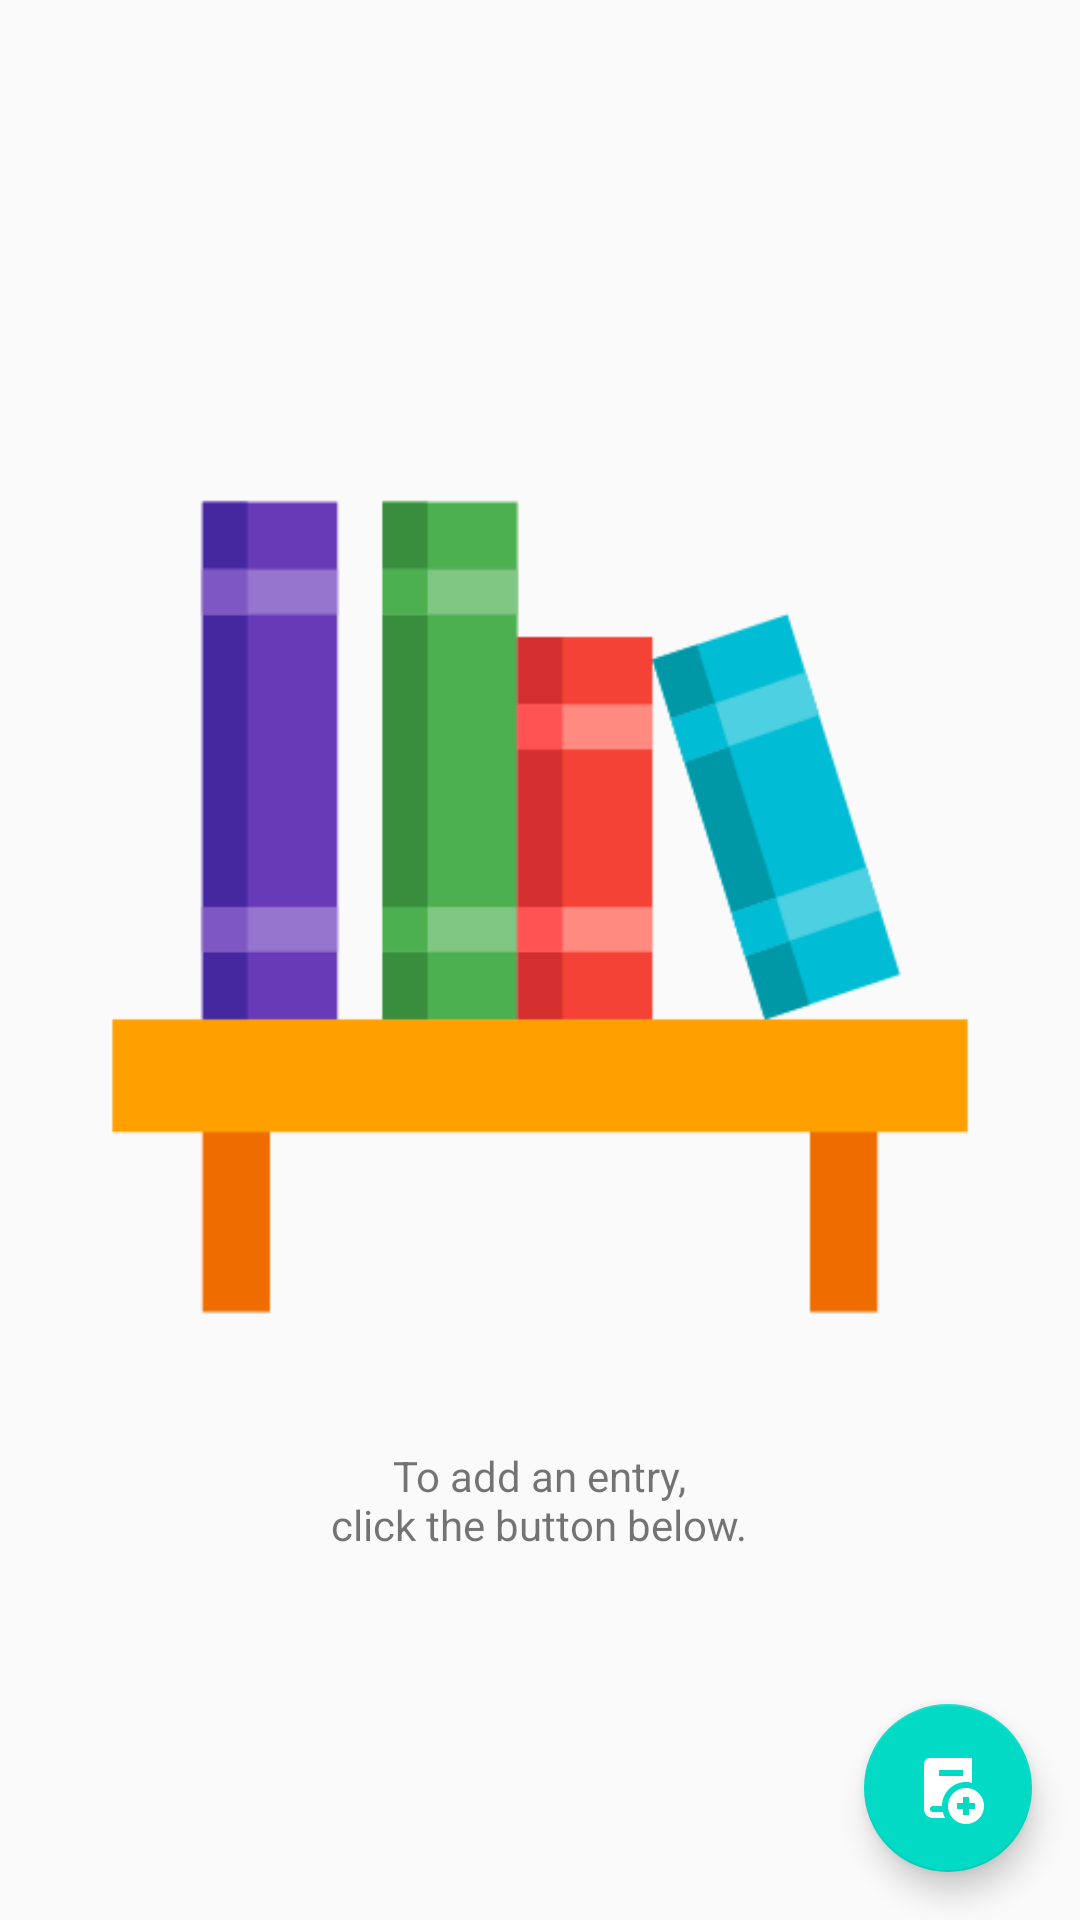

Screen size 1080px x 1920px. Icon name, then its box in pixels as [x1=x1, y1=y1, x2=x2, y2=y2]:
add book: [x1=864, y1=1704, x2=1032, y2=1872]
